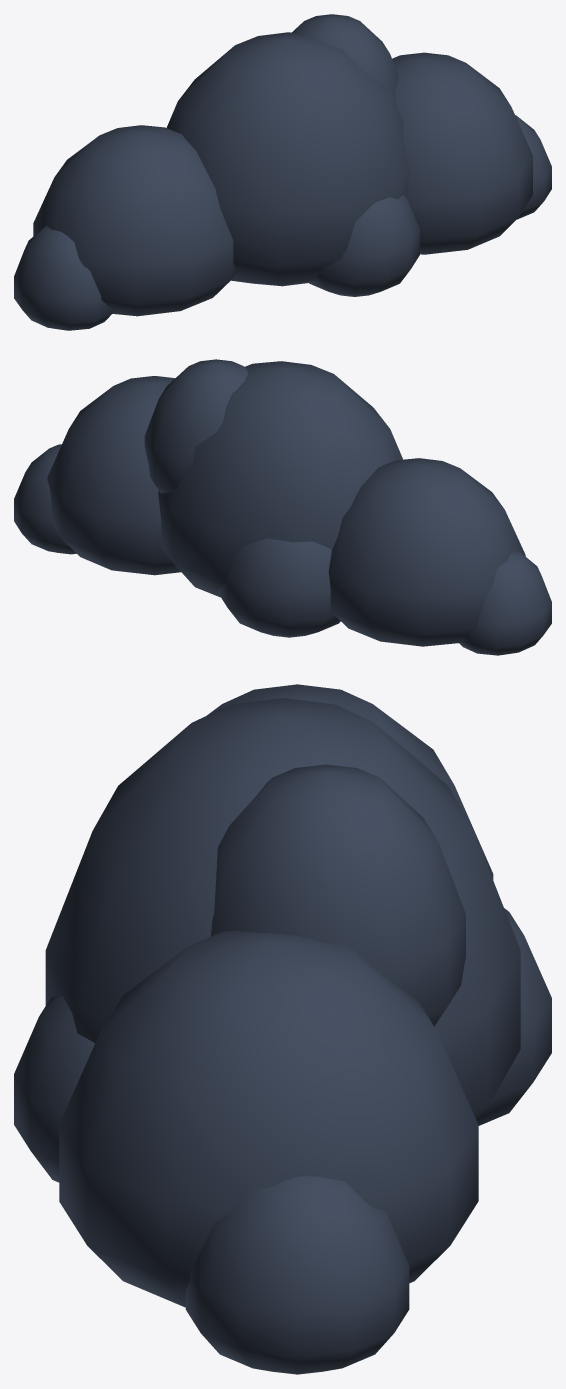
Rendered from cloud_b.glb.
3 views of the same model, one above another, from view 1: azimuth 30°, elevation 25°; view 2: azimuth 150°, elevation 25°; view 3: azimuth 270°, elevation 25° (orthographic). The views are drawn at different scales.
Parts seen in each view (by area): view 1: cloud; view 2: cloud; view 3: cloud.
Part boxes in pixels (<box>): cloud: <box>14,14,551,330</box>; cloud: <box>14,359,551,655</box>; cloud: <box>14,684,551,1374</box>.
Size of the model in its own units: 8.16 by 3.4 by 3.75.
